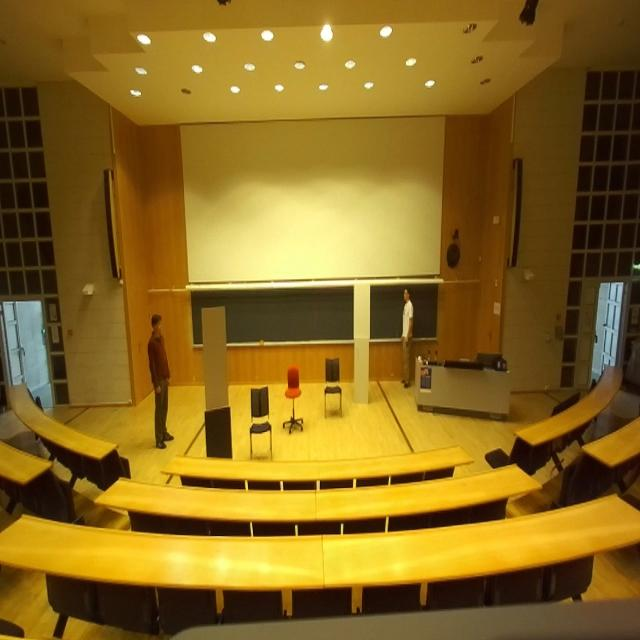person: (148, 313, 175, 449), (401, 288, 413, 388)
